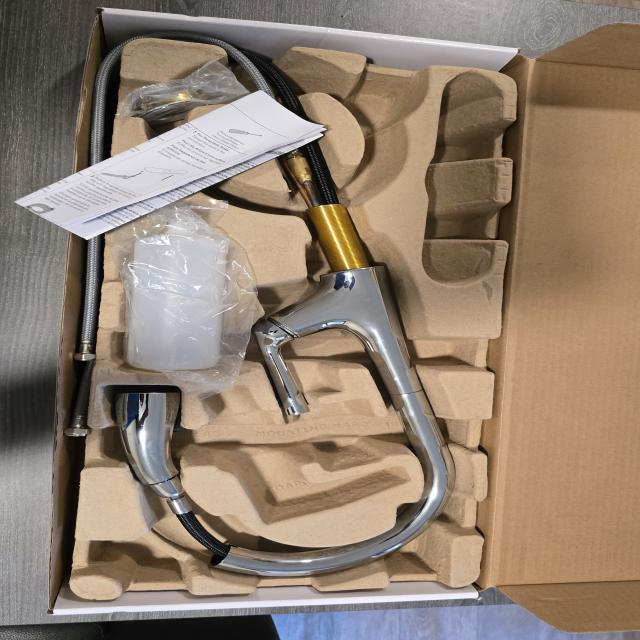1o: (115, 42, 455, 577)
2m: (202, 385, 404, 522)
3: (125, 207, 230, 373)
4m: (423, 73, 503, 286)
5m: (346, 75, 422, 129)
6: (120, 55, 248, 125)
7m: (135, 132, 245, 201)
8: (12, 89, 331, 241)
